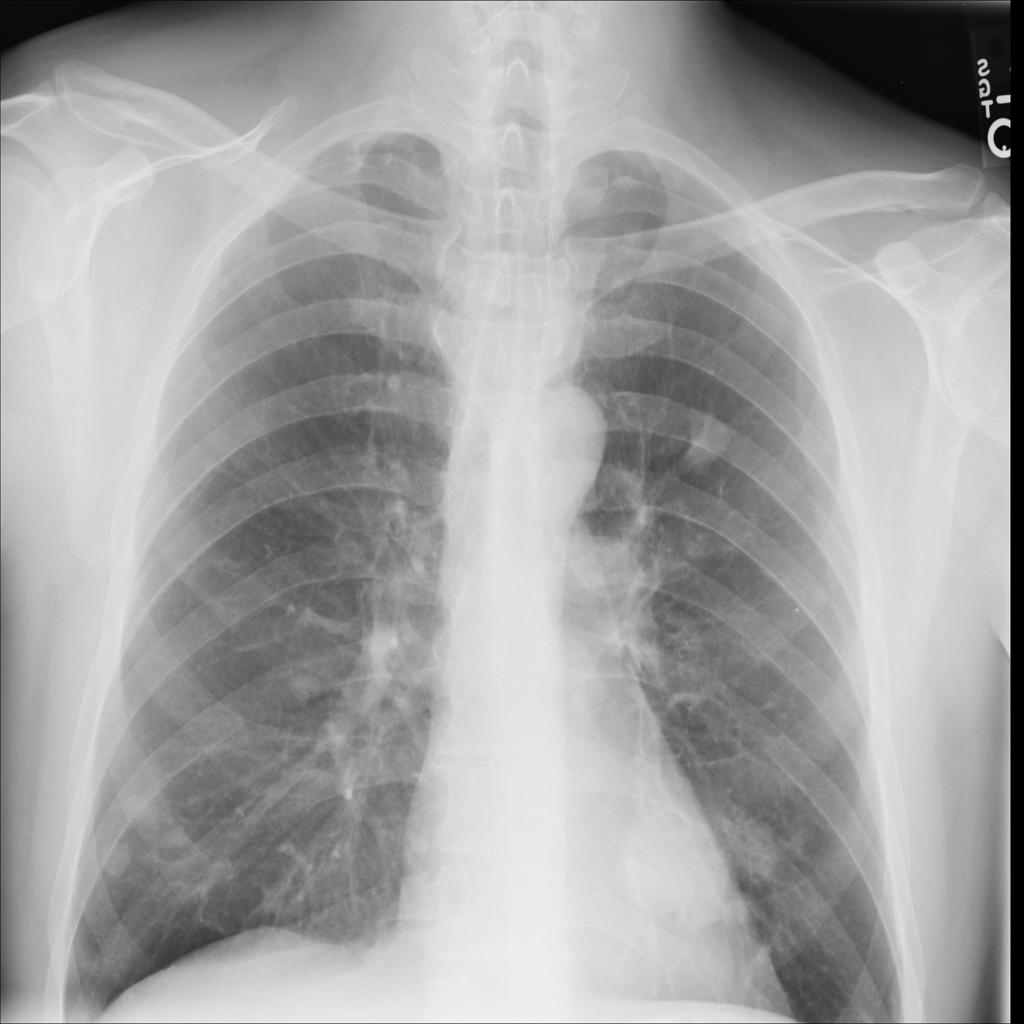nodule: (598, 780, 743, 927), (668, 395, 742, 484), (718, 807, 789, 892), (108, 767, 179, 839), (84, 818, 151, 893), (276, 662, 330, 711), (150, 809, 201, 860)
